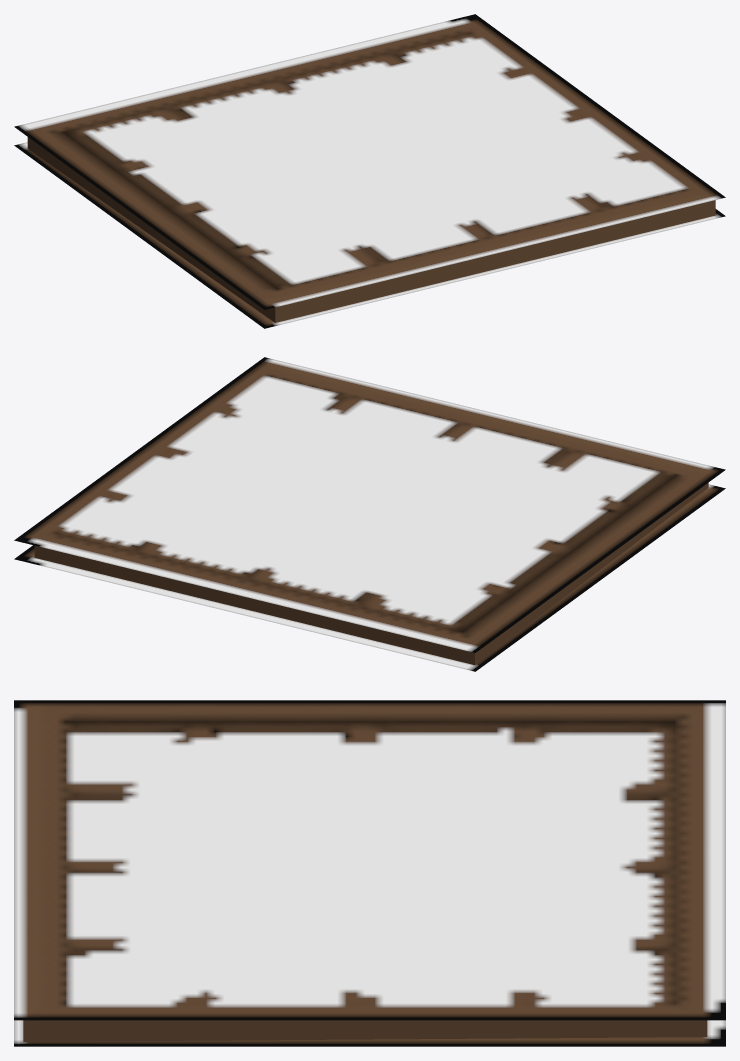
Rendered from pz_native_fixtures_windows_wood_115_frame.obj.
3 renders of one model, top to bottom at view 1: azimuth 30°, elevation 25°; view 2: azimuth 150°, elevation 25°; view 3: azimuth 270°, elevation 25°, orthographic. The views are drawn at different scales.
Parts seen in each view (by area): view 1: pz_native_fixtures_windows_wood_115_frame; view 2: pz_native_fixtures_windows_wood_115_frame; view 3: pz_native_fixtures_windows_wood_115_frame.
Part boxes in pixels (bbox=[...]): pz_native_fixtures_windows_wood_115_frame: bbox=[14, 14, 725, 328]; pz_native_fixtures_windows_wood_115_frame: bbox=[14, 357, 725, 671]; pz_native_fixtures_windows_wood_115_frame: bbox=[14, 700, 725, 1046].
Bounding box in the file's own units: 1.03 × 0.04 × 0.9696.
1 material, 1 textured.
